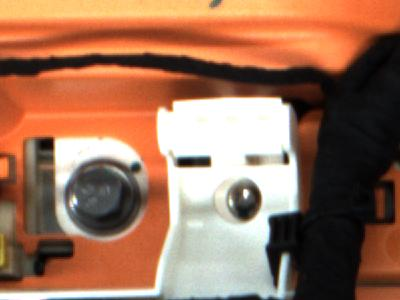nut_b: (61, 155, 139, 231)
